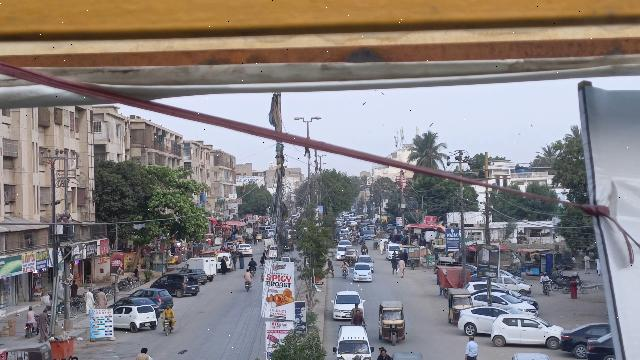Bike: (160, 318, 176, 336), (542, 281, 552, 296), (242, 280, 251, 292)
Car: (488, 313, 562, 348), (458, 306, 522, 337), (556, 322, 614, 354), (111, 305, 159, 333), (148, 272, 201, 296), (329, 290, 367, 321), (130, 287, 175, 308), (584, 331, 615, 360), (352, 261, 372, 282)
Person: (36, 308, 51, 343), (463, 335, 479, 360), (94, 286, 109, 311), (83, 286, 94, 316), (161, 305, 175, 320), (539, 270, 551, 283), (242, 267, 253, 281)
Rickshaw: (376, 300, 409, 347), (446, 287, 471, 325)
Truck: (185, 256, 218, 280)
Van: (332, 325, 376, 360)
